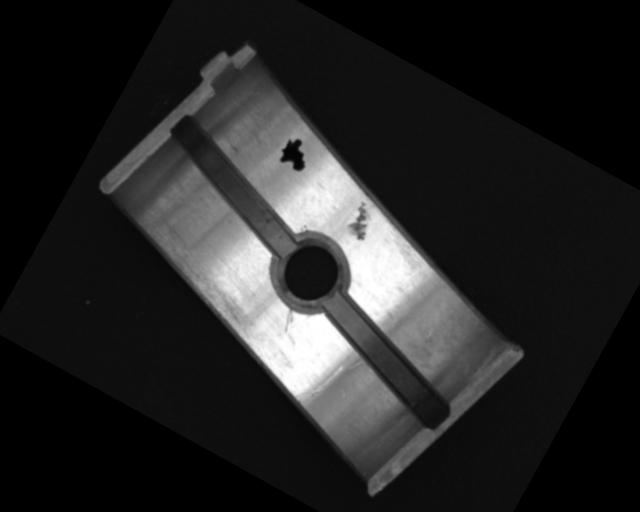blot: (275, 134, 315, 174)
bruise: (342, 200, 379, 243)
gap: (144, 113, 322, 260), (299, 291, 470, 429)
hole: (261, 223, 358, 322)
nick: (294, 353, 345, 414), (276, 306, 298, 333)
scratch: (123, 225, 273, 340)
